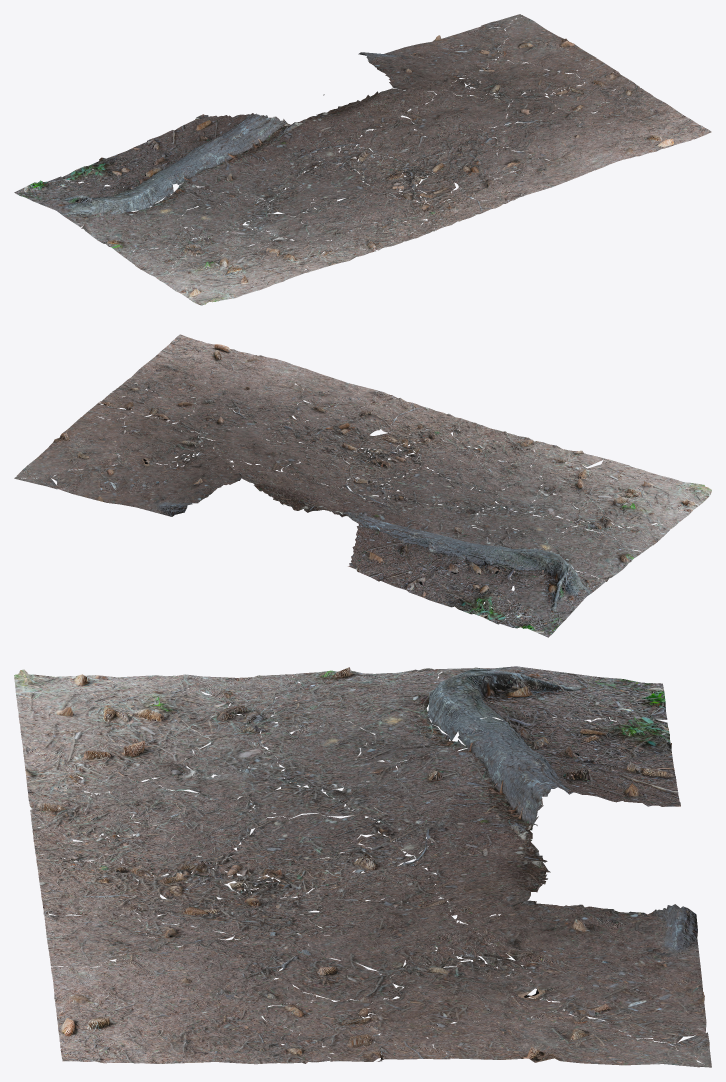
3 renders of one model, top to bottom at view 1: azimuth 30°, elevation 25°; view 2: azimuth 150°, elevation 25°; view 3: azimuth 270°, elevation 25°, orthographic. The views are drawn at different scales.
Parts seen in each view (by area): view 1: Model; view 2: Model; view 3: Model.
Part boxes in pixels (x1=…): Model: x1=14, y1=14, x2=711, y2=305; Model: x1=14, y1=334, x2=711, y2=637; Model: x1=14, y1=666, x2=711, y2=1067.
Bounding box in the file's own units: 2.68 × 0.2753 × 1.68.
3 materials, 3 textured.
